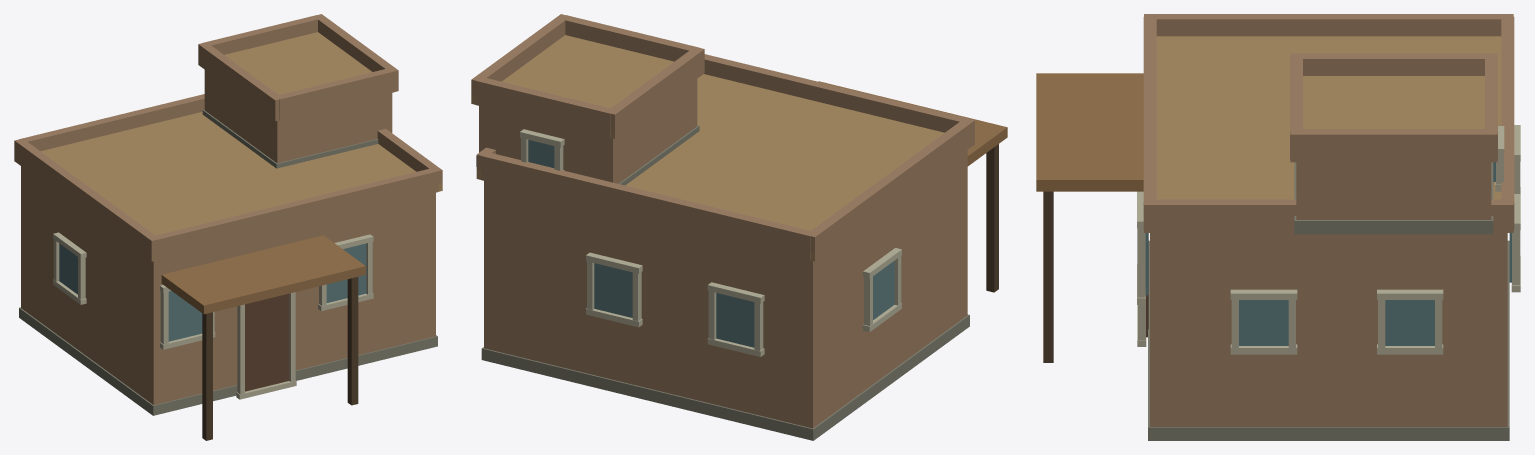
File: Building_Settlement_AdobeTerraceHouse_001_LOD1.glb
3 views of the same model, side by side, from view 1: azimuth 30°, elevation 25°; view 2: azimuth 150°, elevation 25°; view 3: azimuth 270°, elevation 25° (orthographic). The views are drawn at different scales.
Parts seen in each view (by area): view 1: Building_Settlement_AdobeTerraceHouse_001_LOD1; view 2: Building_Settlement_AdobeTerraceHouse_001_LOD1; view 3: Building_Settlement_AdobeTerraceHouse_001_LOD1.
Part boxes in pixels (box(x1,y1,x2,y2)): Building_Settlement_AdobeTerraceHouse_001_LOD1: box(14, 14, 442, 440); Building_Settlement_AdobeTerraceHouse_001_LOD1: box(471, 14, 1007, 440); Building_Settlement_AdobeTerraceHouse_001_LOD1: box(1036, 14, 1520, 440).
Bounding box in the file's own units: 5.84 × 4.3 × 5.96.
